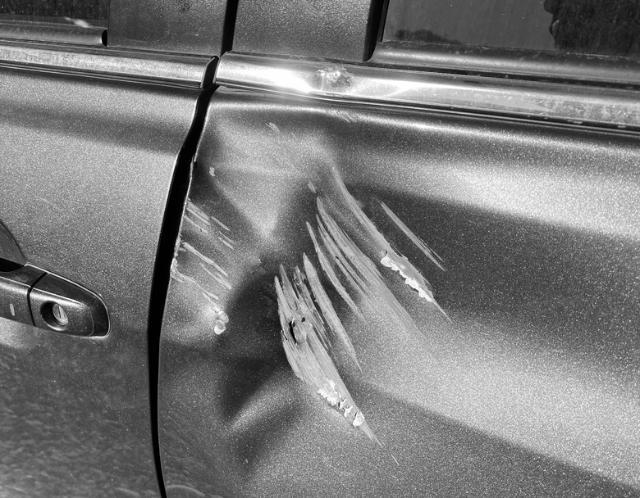Door: (131, 102, 467, 447)
